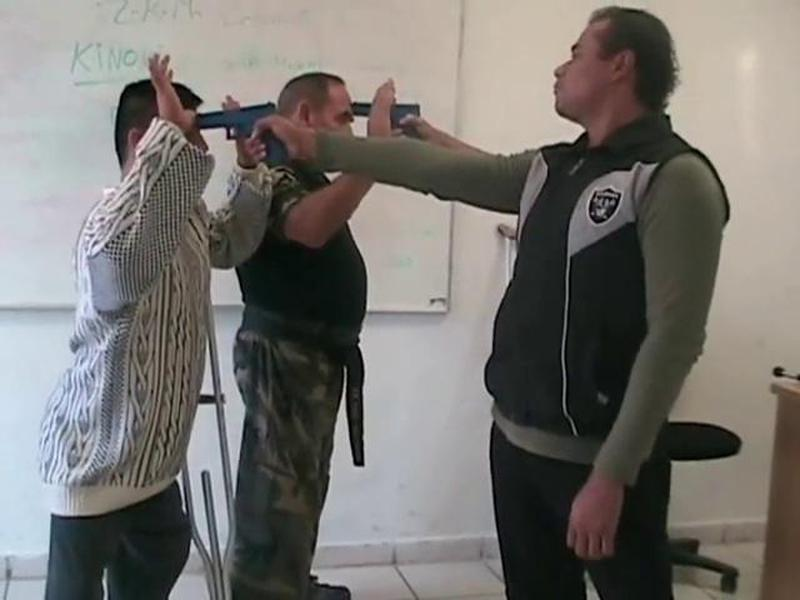Pistola: (177, 82, 307, 184)
